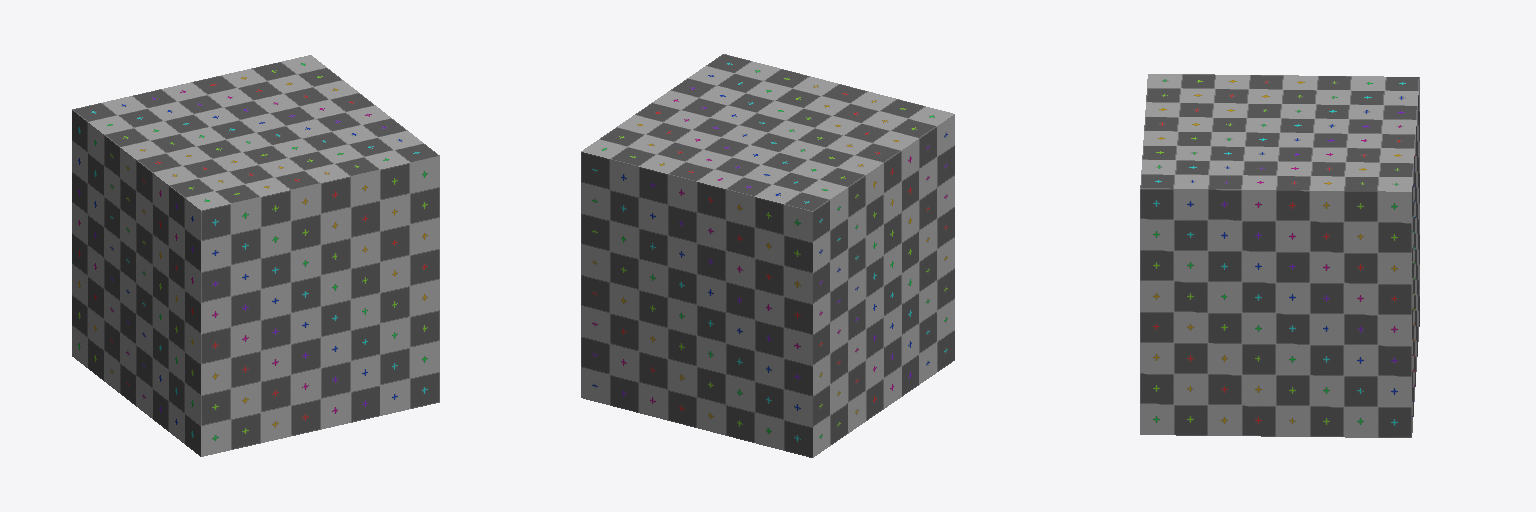
3 renders of one model, left to right at view 1: azimuth 30°, elevation 25°; view 2: azimuth 150°, elevation 25°; view 3: azimuth 270°, elevation 25°, orthographic.
Visible parts, largest first — view 1: Cube; view 2: Cube; view 3: Cube.
Boxes of the visible parts, <box> form: Cube: <box>72,55,439,456</box>; Cube: <box>581,54,954,457</box>; Cube: <box>1140,74,1419,437</box>.
Size of the model in its own units: 1.06 by 1.03 by 1.06.
Materials: 1 (1 with a texture image).